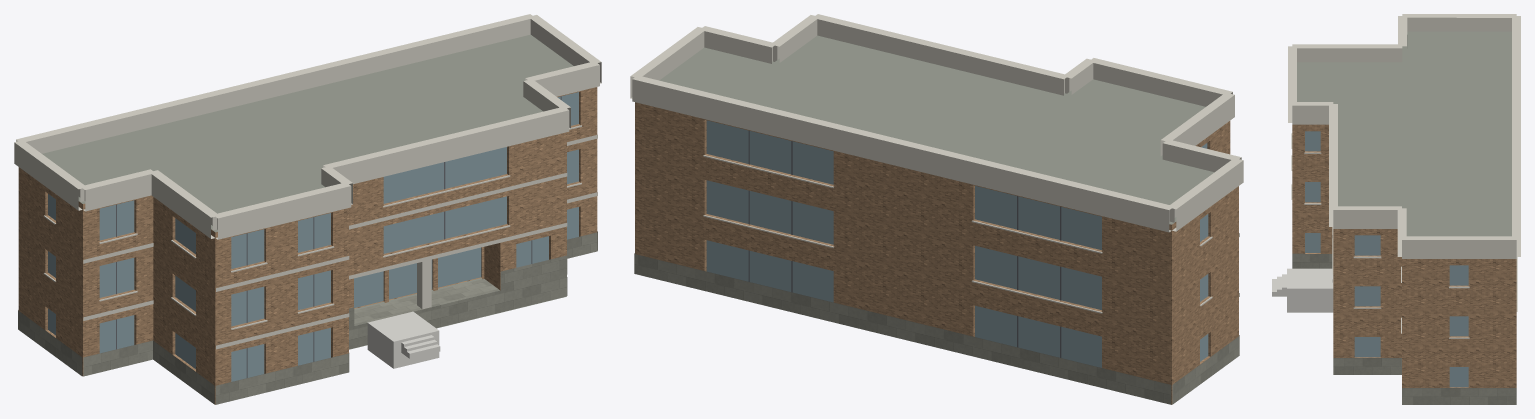
3 renders of one model, left to right at view 1: azimuth 30°, elevation 25°; view 2: azimuth 150°, elevation 25°; view 3: azimuth 270°, elevation 25°, orthographic. The views are drawn at different scales.
Parts seen in each view (by area): view 1: b98__wall, b98__roof, b98__trim, b98__glass, b98__base, b98__entranceStair, b98__column, b98__frame; view 2: b98__wall, b98__roof, b98__trim, b98__glass, b98__base, b98__frame; view 3: b98__roof, b98__wall, b98__trim, b98__glass, b98__base, b98__entranceStair.
Part boxes in pixels (left/top/right/bottom): b98__wall: left=18, top=87, right=597, bottom=404; b98__roof: left=42, top=34, right=573, bottom=376; b98__trim: left=14, top=14, right=601, bottom=349; b98__glass: left=48, top=92, right=578, bottom=381; b98__base: left=18, top=231, right=597, bottom=404; b98__entranceStair: left=367, top=311, right=440, bottom=368; b98__column: left=417, top=259, right=431, bottom=309; b98__frame: left=116, top=96, right=561, bottom=377; b98__wall: left=635, top=102, right=1238, bottom=404; b98__roof: left=659, top=35, right=1214, bottom=404; b98__trim: left=630, top=14, right=1243, bottom=313; b98__glass: left=706, top=120, right=1208, bottom=367; b98__base: left=634, top=253, right=1239, bottom=404; b98__frame: left=748, top=130, right=1061, bottom=357; b98__roof: left=1297, top=31, right=1511, bottom=236; b98__wall: left=1292, top=124, right=1516, bottom=387; b98__trim: left=1288, top=14, right=1520, bottom=338; b98__glass: left=1305, top=131, right=1468, bottom=387; b98__base: left=1292, top=253, right=1516, bottom=404; b98__entranceStair: left=1272, top=268, right=1333, bottom=312.
Size of the model in its own units: 34.31 by 12.09 by 15.96.
Materials: 9 (2 with a texture image).
